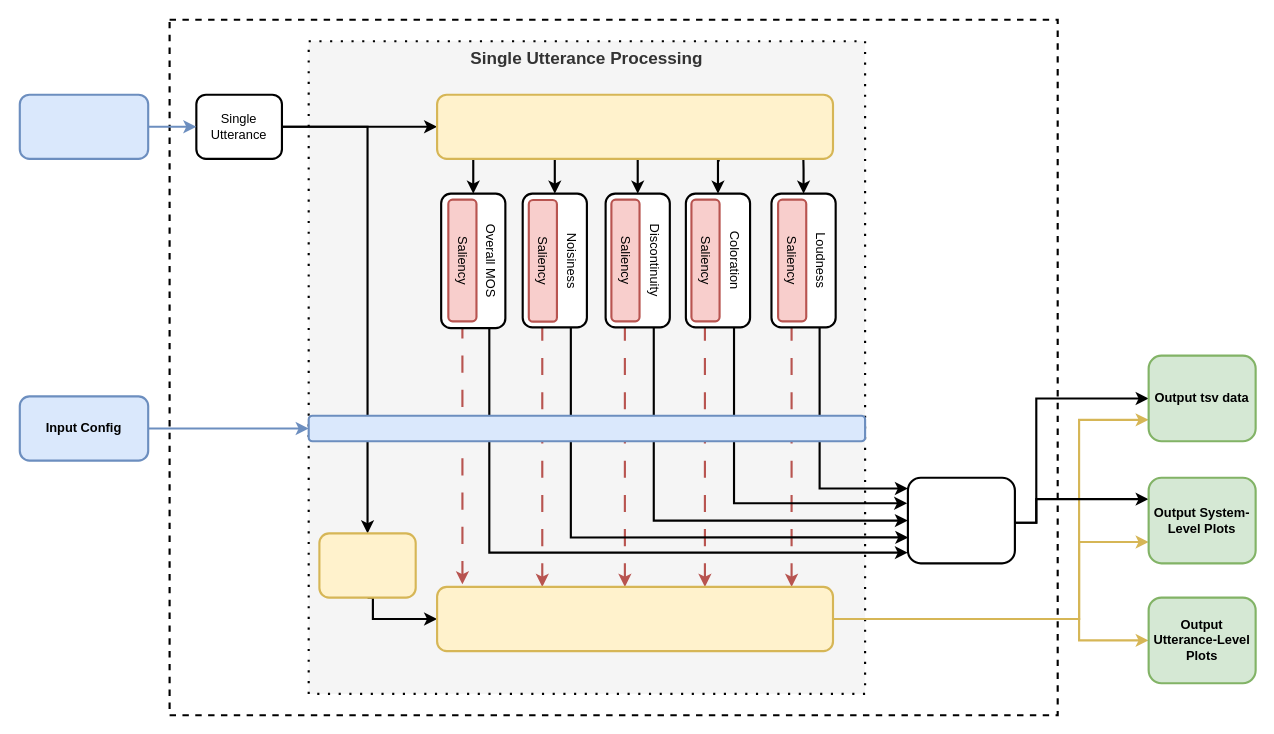
This 1274x734 diagram has some shape labels left out. Each missing label, with the centre of its shape:
"Input Dataset" belongs at point 83,126.
"PDSM, KDE (incl. flatness), and ASR for each dimension under threshold" belongs at point 634,618.
"Scale threshold" belongs at point 586,428.
"Single Utterance Output Scores" belongs at point 960,520.
"SQ-AST" belongs at point 634,126.
"WhipserX Transcription & Phoneme Recognition" belongs at point 367,565.
